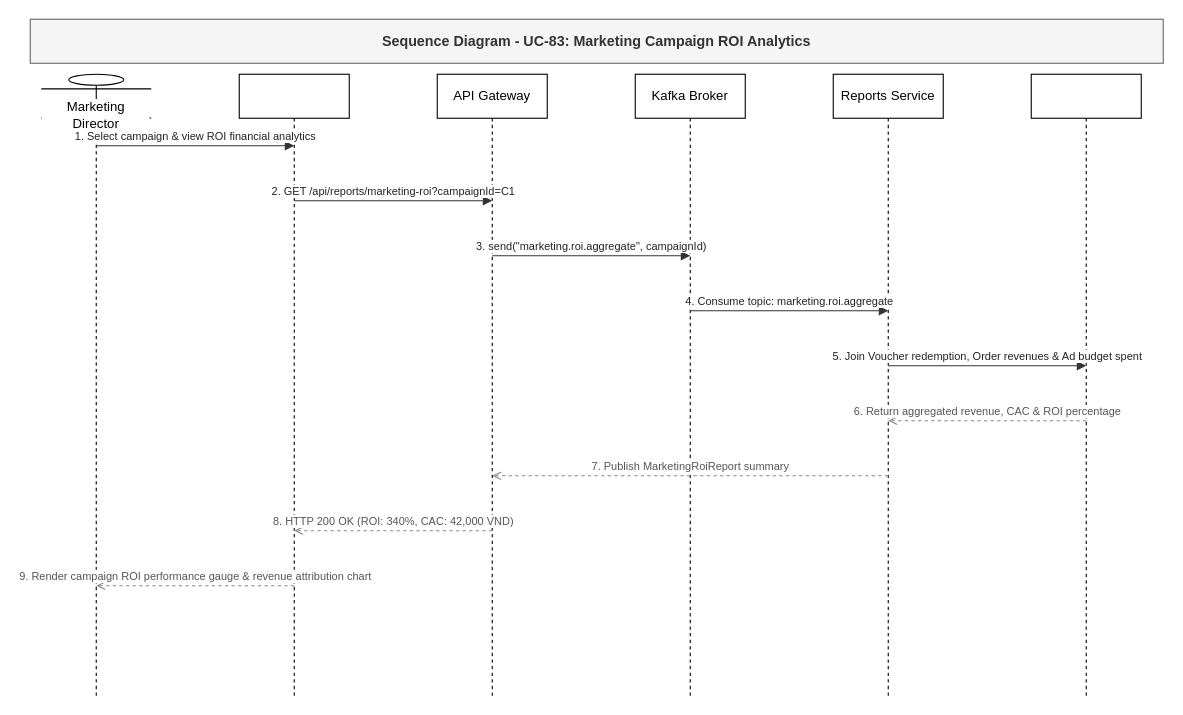
Some shapes in this 1183 by 715 pixel diagram are drawn without their labels. The box of each missing label's shape, as (x1, y1, x2, y2) in pixels:
Campaign ROI UI: (238, 73, 349, 696)
MongoDB Database: (1030, 73, 1141, 696)
